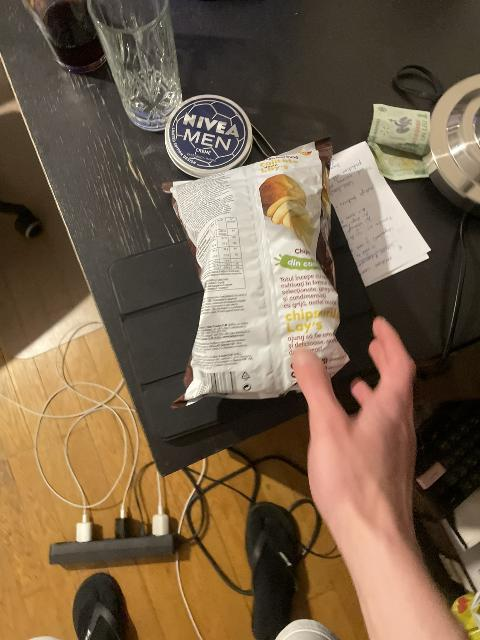Lays Beef Grilled Ribs 125g: (163, 135, 343, 415)
